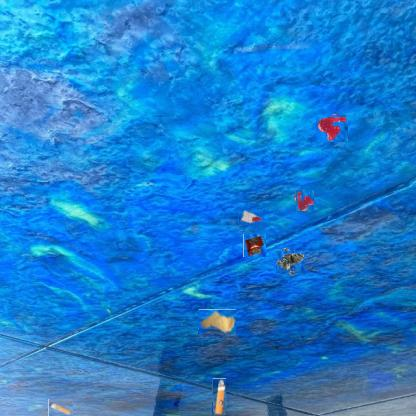dirty: (198, 309, 236, 334), (278, 248, 302, 274), (243, 234, 267, 257), (212, 378, 226, 415), (48, 398, 73, 416), (238, 208, 262, 224)
liquid: (317, 113, 347, 143), (295, 190, 315, 210)
